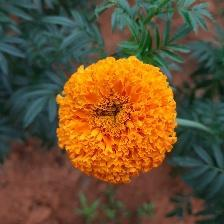marigold: (56, 56, 181, 188)
